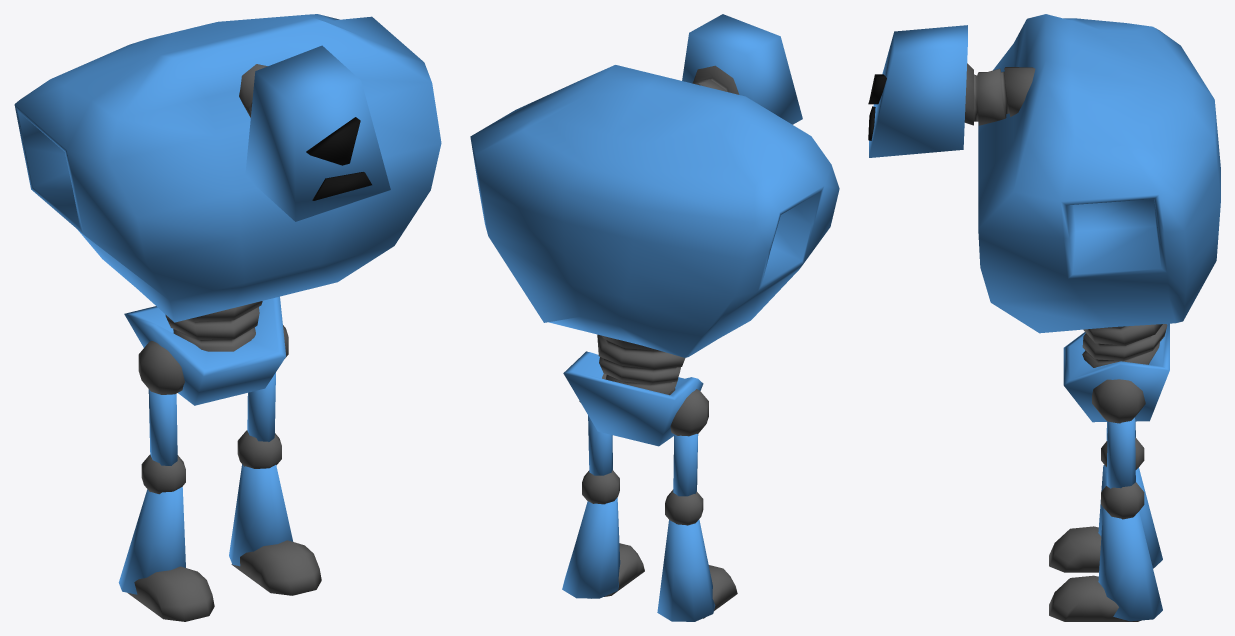
File: Enemy_Process_Blue.fbx
3 views of the same model, side by side, from view 1: azimuth 30°, elevation 25°; view 2: azimuth 150°, elevation 25°; view 3: azimuth 270°, elevation 25° (orthographic). The views are drawn at different scales.
Parts seen in each view (by area): view 1: Sphere.008; view 2: Sphere.008; view 3: Sphere.008.
Boxes of the visible parts, x1=… form: Sphere.008: x1=14, y1=14, x2=441, y2=621; Sphere.008: x1=470, y1=14, x2=839, y2=621; Sphere.008: x1=868, y1=14, x2=1220, y2=621.
Size of the model in its own units: 993 by 1553 by 900.
